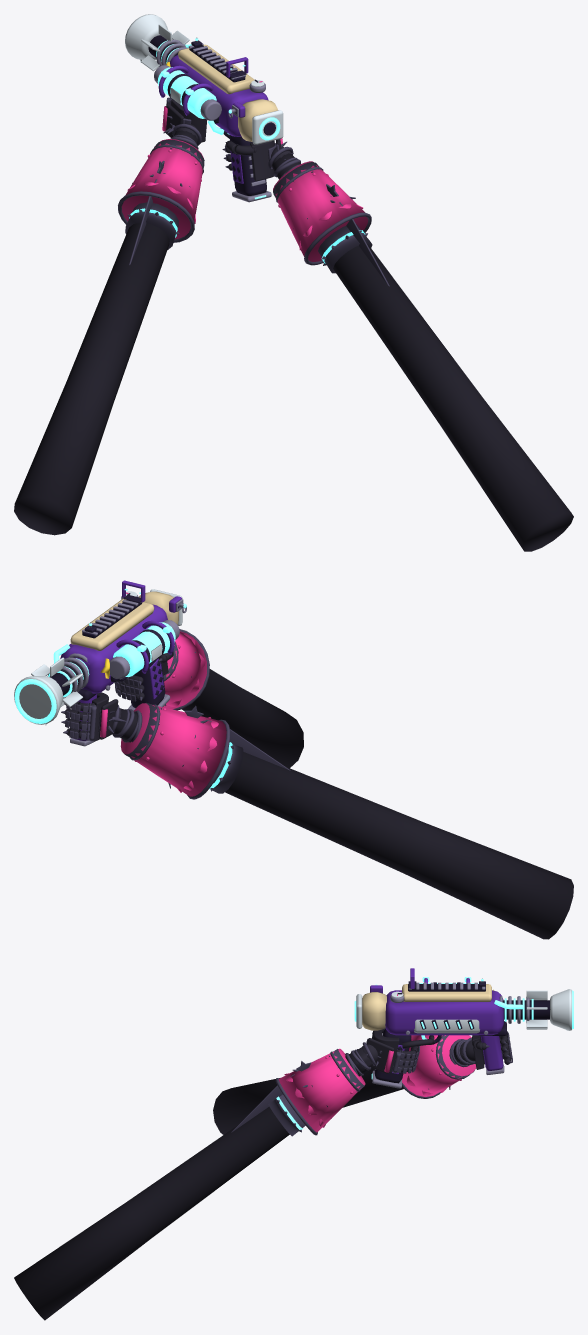
Rendered from cryo_beam.glb.
3 renders of one model, top to bottom at view 1: azimuth 30°, elevation 25°; view 2: azimuth 150°, elevation 25°; view 3: azimuth 270°, elevation 25°, orthographic. The views are drawn at different scales.
Parts seen in each view (by area): view 1: ArmR, ArmL, Shell, ArmRKitBell, ArmLKitBell, Cell; view 2: ArmL, Shell, ArmLKitBell, ArmR, ArmRKitBell, Cell, ArmLKitGauntlet, Fins, Panel, ArmLKitWraps, ArmLKitFins, ArmRKitGauntlet (+1 smaller); view 3: ArmR, Shell, ArmRKitBell, ArmL, ArmLKitBell, ArmRKitGauntlet, ArmRKitMitten, Fins.
Part boxes in pixels (x1,y1,x2,y2): ArmR: [225, 140, 573, 551]; ArmL: [14, 98, 207, 535]; Shell: [125, 14, 283, 202]; ArmRKitBell: [273, 161, 371, 265]; ArmLKitBell: [118, 139, 203, 242]; Cell: [157, 67, 216, 118]; ArmL: [65, 692, 573, 939]; Shell: [14, 589, 186, 746]; ArmLKitBell: [120, 703, 230, 799]; ArmR: [117, 651, 303, 768]; ArmRKitBell: [163, 629, 209, 710]; Cell: [113, 622, 175, 677]; ArmLKitGauntlet: [65, 702, 166, 761]; Fins: [31, 657, 82, 707]; Panel: [116, 620, 174, 673]; ArmLKitWraps: [89, 705, 142, 742]; ArmLKitFins: [109, 719, 290, 770]; ArmRKitGauntlet: [114, 645, 180, 701]; ArmR: [14, 1028, 434, 1320]; Shell: [354, 982, 573, 1088]; ArmRKitBell: [275, 1048, 365, 1135]; ArmL: [213, 1034, 510, 1134]; ArmLKitBell: [402, 1035, 476, 1098]; ArmRKitGauntlet: [325, 1039, 419, 1093]; ArmRKitMitten: [367, 1038, 394, 1073]; Fins: [526, 990, 547, 1029].
Bounding box in the file's own units: 1.44 × 1.13 × 1.87.
